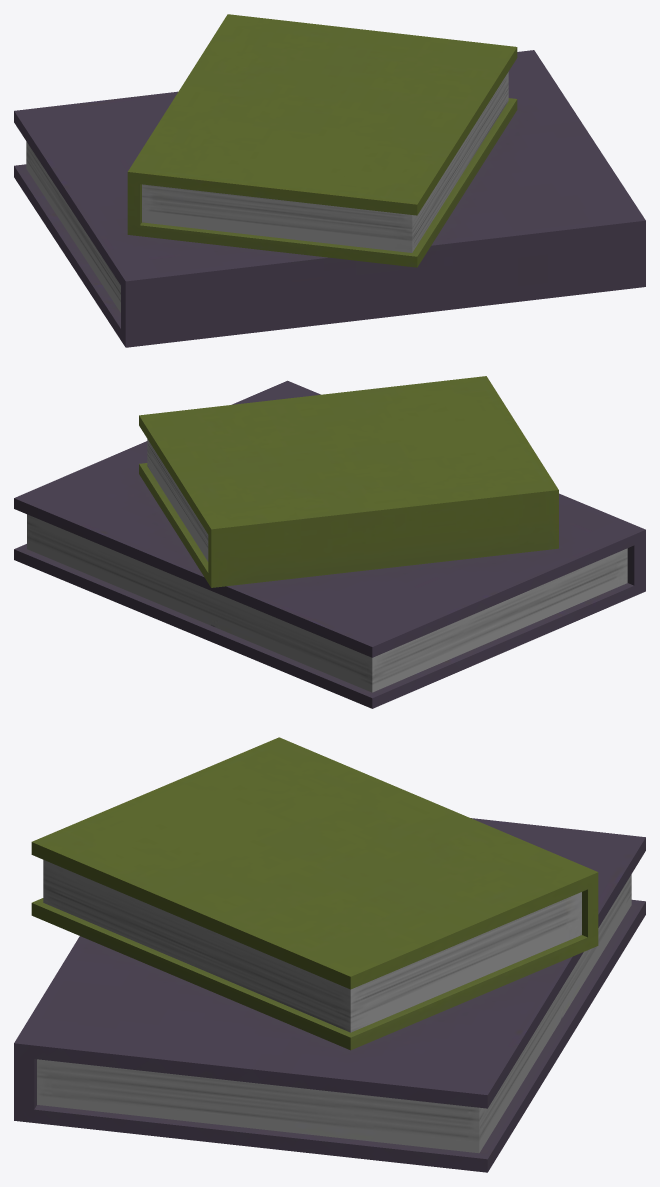
The model's file is BooksA.glb.
3 views of the same model, one above another, from view 1: azimuth 30°, elevation 25°; view 2: azimuth 150°, elevation 25°; view 3: azimuth 270°, elevation 25° (orthographic). The views are drawn at different scales.
Visible parts, largest first — view 1: booksMeshesA; view 2: booksMeshesA; view 3: booksMeshesA.
Boxes of the visible parts, x1=… form: booksMeshesA: x1=14, y1=14, x2=645, y2=347; booksMeshesA: x1=14, y1=376, x2=645, y2=708; booksMeshesA: x1=14, y1=737, x2=645, y2=1172.
Size of the model in its own units: 0.4452 by 0.1023 by 0.3837.
1 material, 1 textured.
